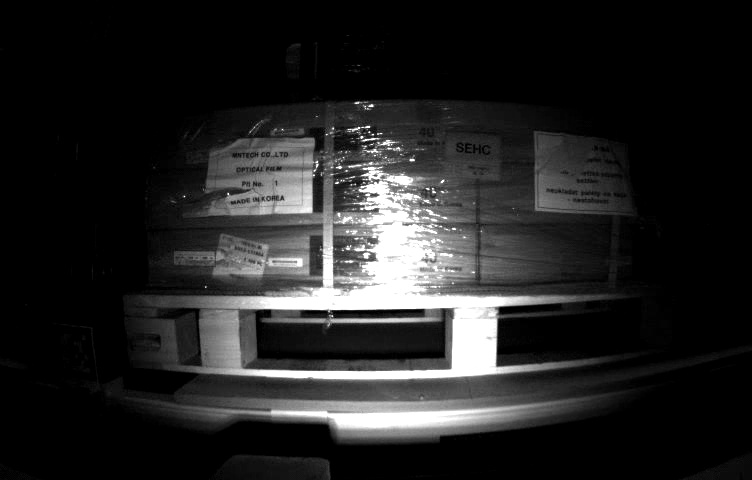True Barcode: (217, 232, 262, 291)
